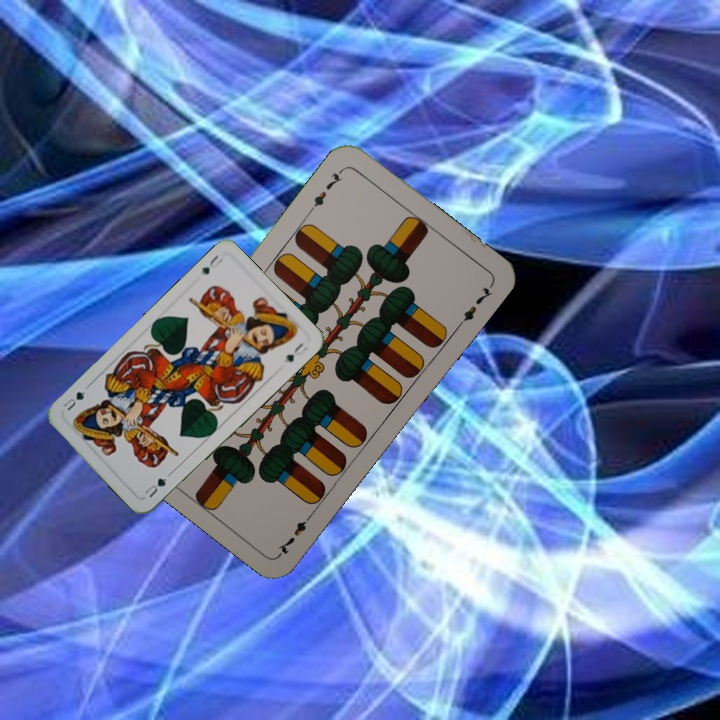E7: (273, 508, 317, 558), (305, 164, 347, 214)
GU: (141, 474, 169, 500), (197, 251, 225, 277)
